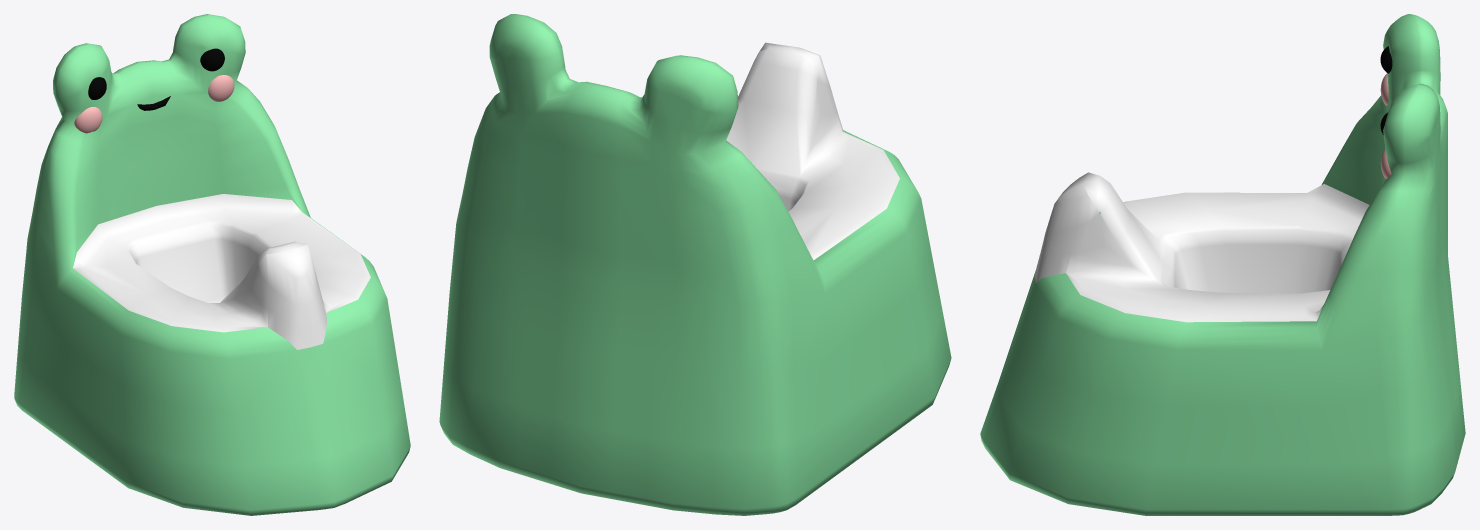
File: Potta3.fbx
3 views of the same model, side by side, from view 1: azimuth 30°, elevation 25°; view 2: azimuth 150°, elevation 25°; view 3: azimuth 270°, elevation 25° (orthographic). The views are drawn at different scales.
Parts seen in each view (by area): view 1: potty; view 2: potty; view 3: potty.
Part boxes in pixels (x1,y1,x2,y2): potty: (14, 14, 410, 515); potty: (439, 14, 951, 515); potty: (980, 14, 1465, 515).
Size of the model in its own units: 51.92 by 62.16 by 70.08.
